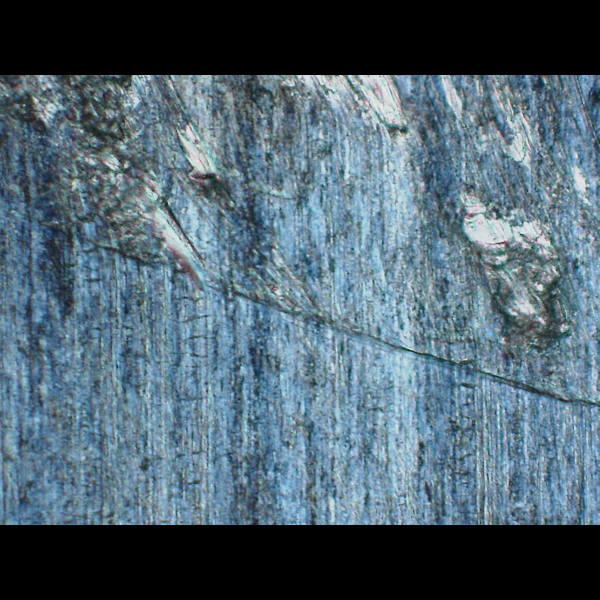d: (4, 74, 597, 415)
